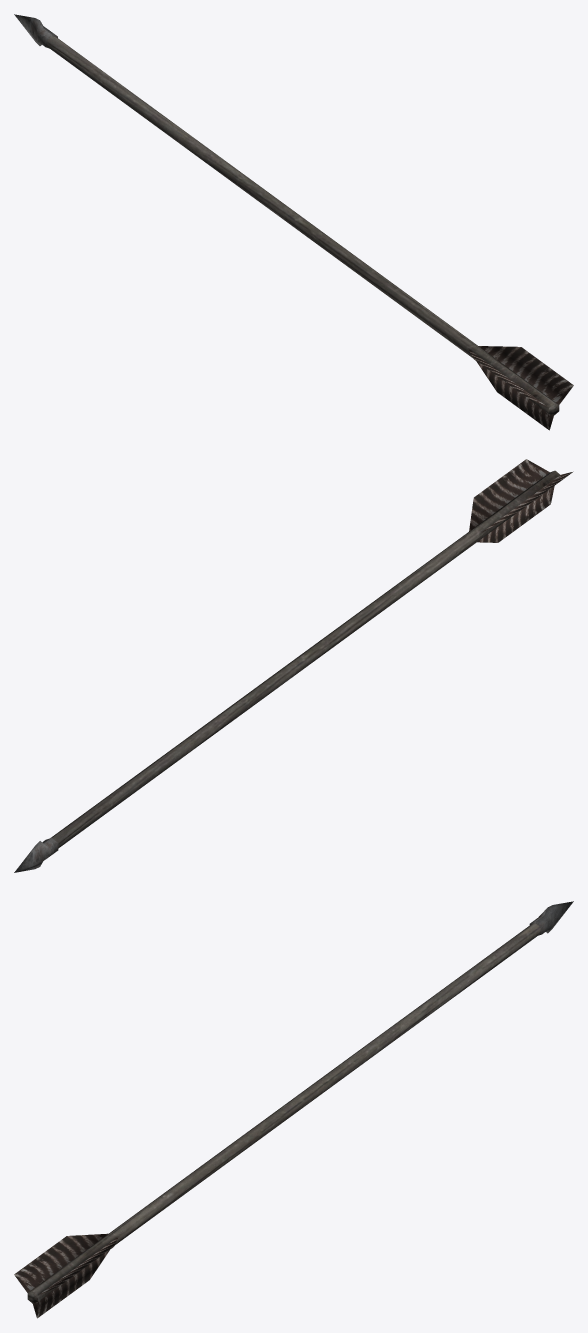
Rendered from Arrow.fbx.
3 renders of one model, top to bottom at view 1: azimuth 30°, elevation 25°; view 2: azimuth 150°, elevation 25°; view 3: azimuth 330°, elevation 25°, orthographic.
Visible parts, largest first — view 1: Cube; view 2: Cube; view 3: Cube.
Part boxes in pixels (bbox=[...]): Cube: bbox=[14, 14, 573, 430]; Cube: bbox=[14, 459, 573, 872]; Cube: bbox=[14, 901, 573, 1318].
Size of the model in its own units: 386 by 306 by 7606.
